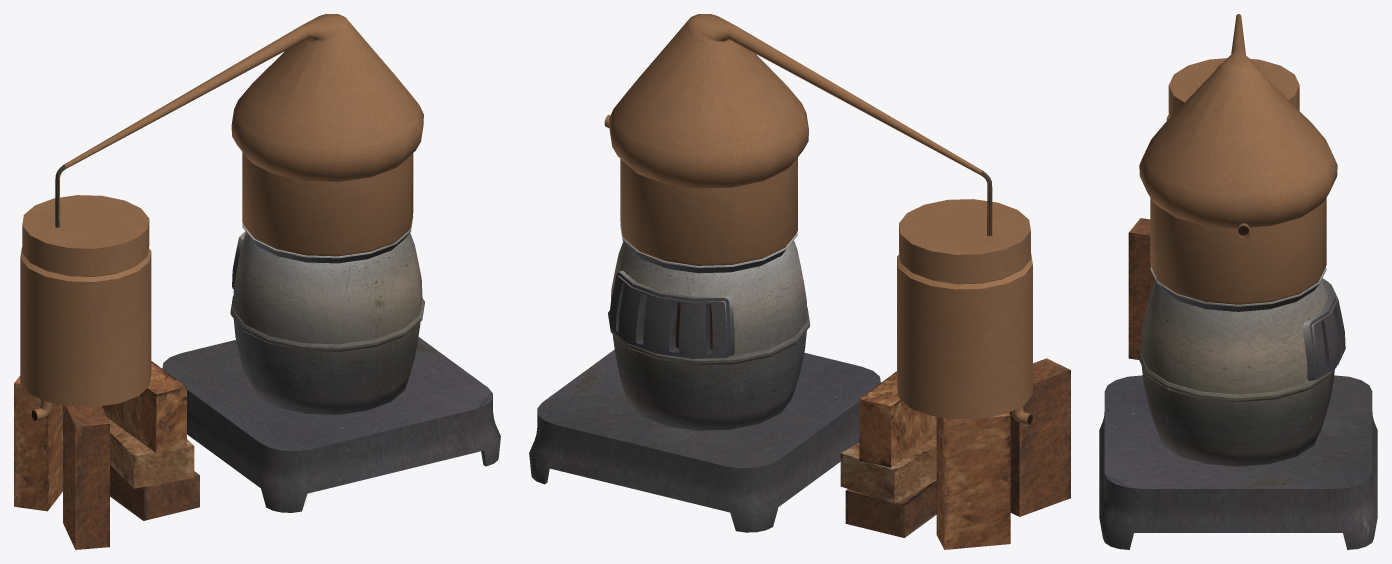
Rendered from Destilator.fbx.
3 renders of one model, left to right at view 1: azimuth 30°, elevation 25°; view 2: azimuth 150°, elevation 25°; view 3: azimuth 270°, elevation 25°, orthographic. The views are drawn at different scales.
Visible parts, largest first — view 1: Destilator; view 2: Destilator; view 3: Destilator.
Boxes of the visible parts, x1,y1,x2,y2 form: Destilator: (14,14,500,549); Destilator: (529,14,1070,549); Destilator: (1099,14,1377,549).
Bounding box in the file's own units: 126 × 122 × 70.82.
1 material, 1 textured.
